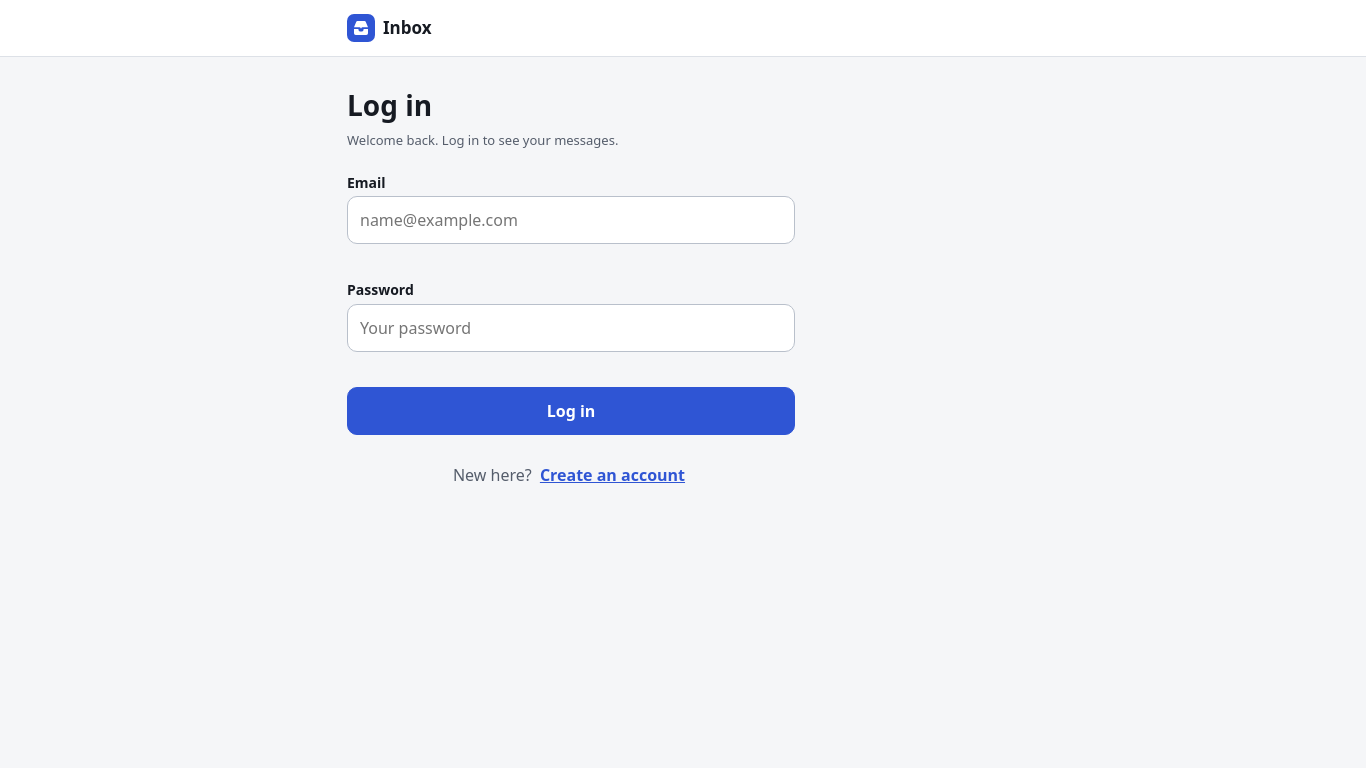
Test: Log in › shows a clear error for wrong credentials
Step 1. Type "ada@example.com" into the field labelled "Email" → (571, 220), box [347,196,795,244]
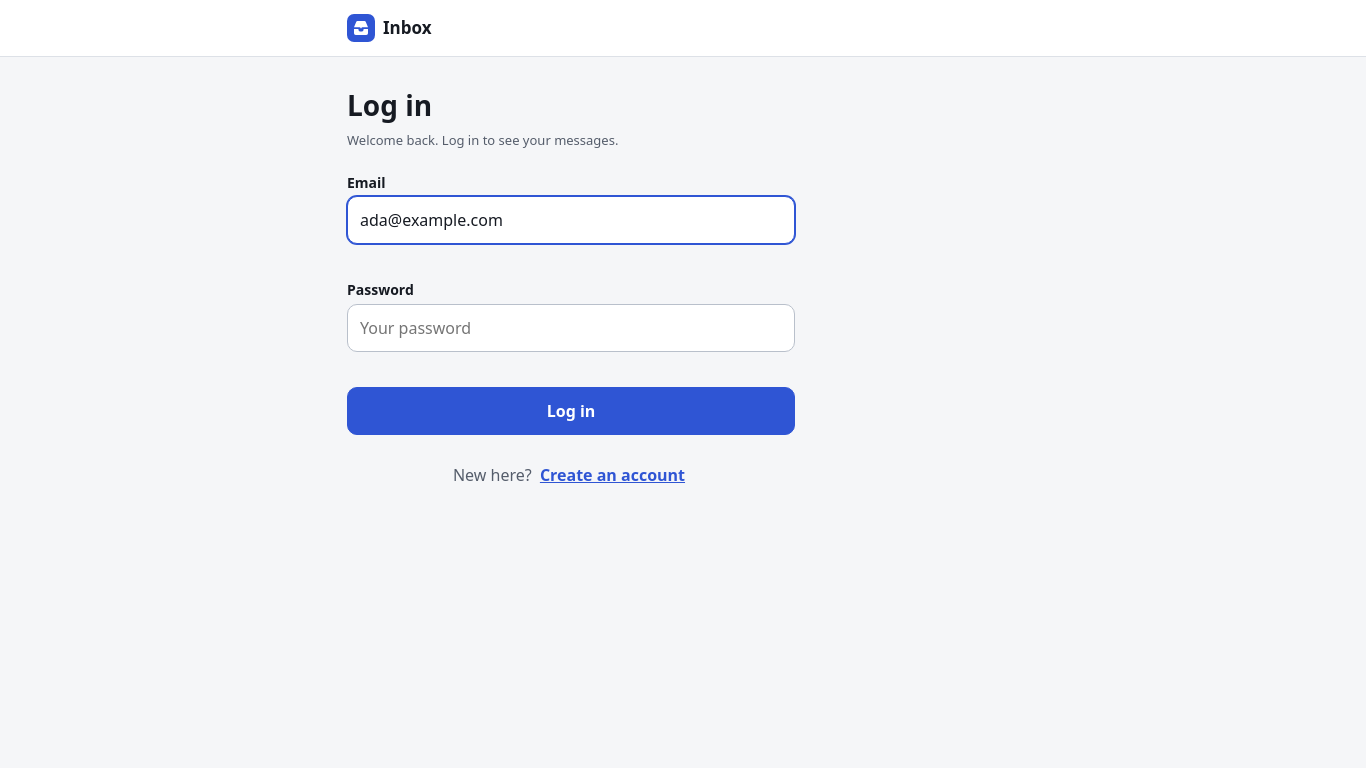
Step 2. Type "wrong" into the password field labelled "Password" → (571, 328), box [347,304,795,352]
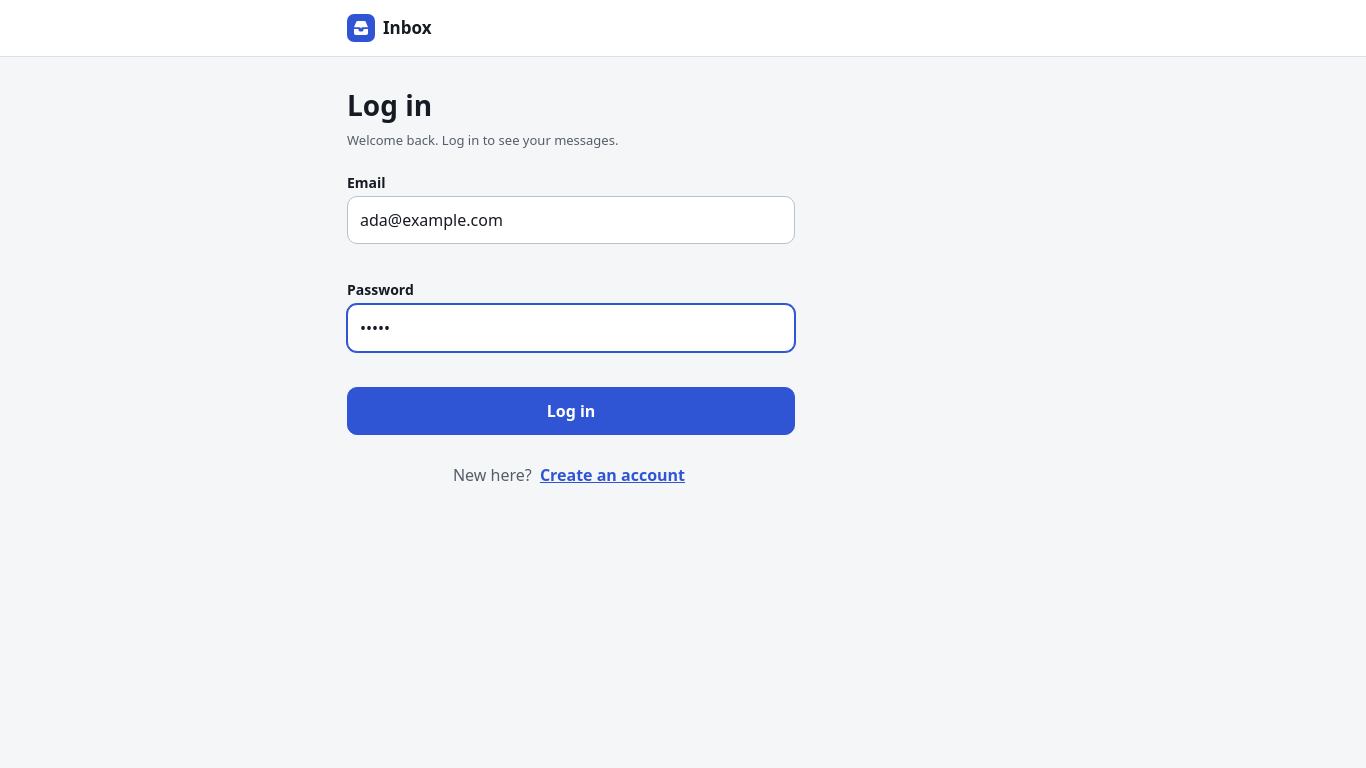
Step 3. Click the button "Log in" → (571, 411), box [347,387,795,435]
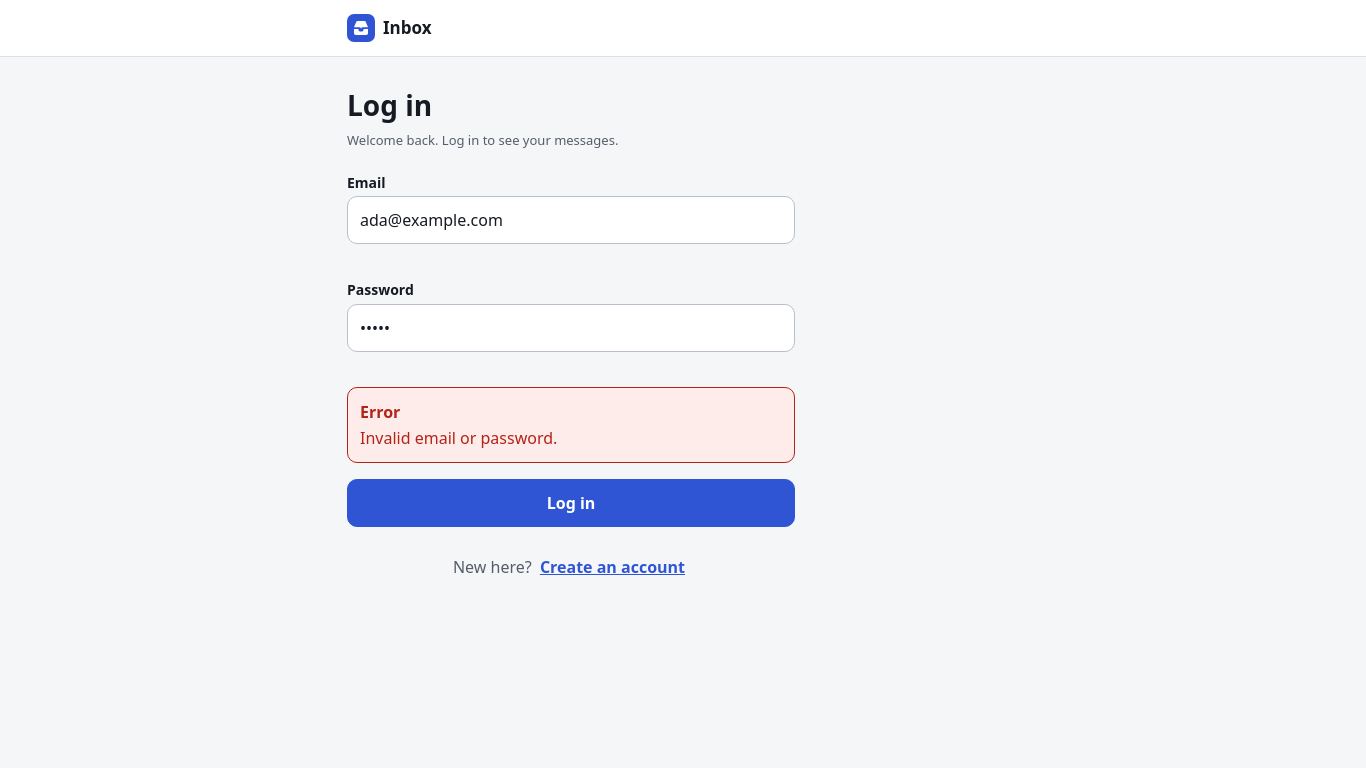
Check: the message shows "Invalid email or password.", box [360,427,557,449]
